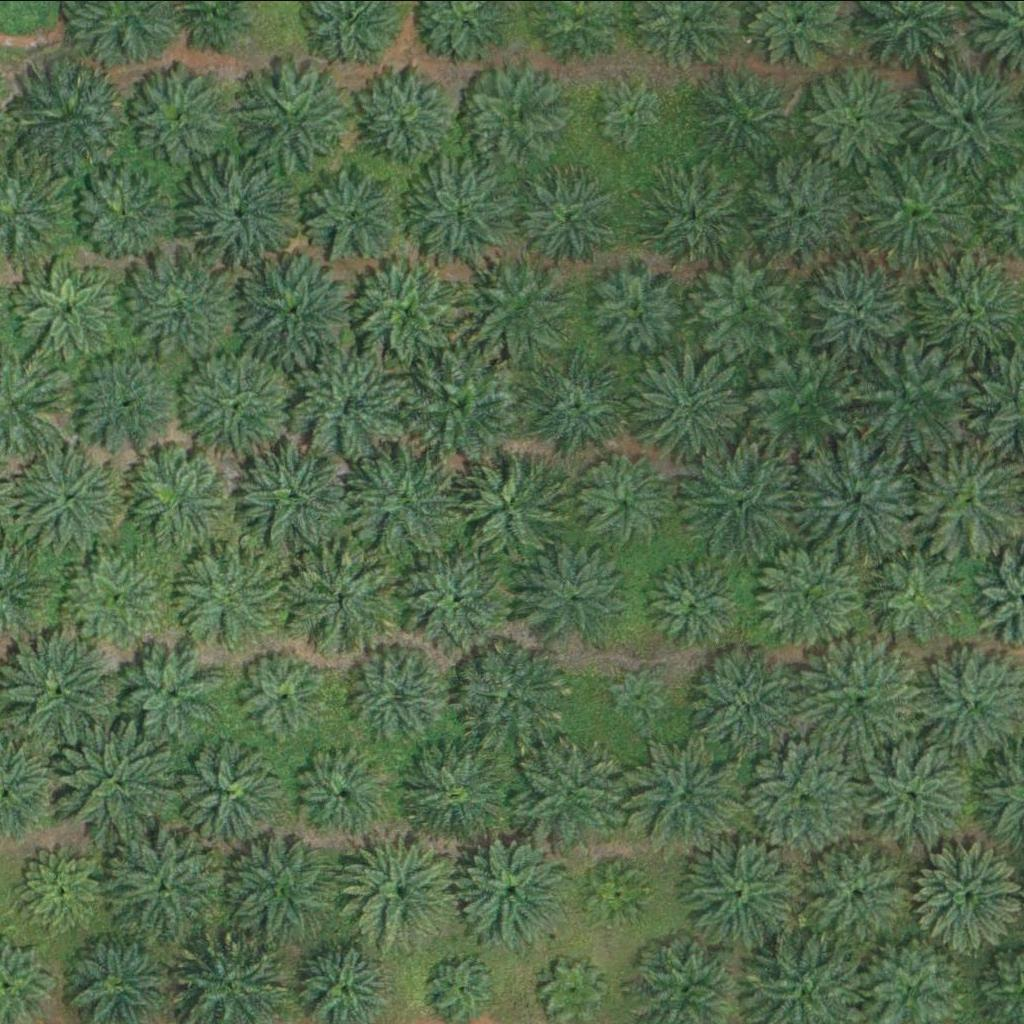Kelapa_Sawit: (743, 350, 857, 463), (679, 444, 793, 557), (523, 538, 637, 651), (853, 343, 967, 456), (348, 834, 461, 947), (4, 633, 117, 746), (176, 537, 289, 650), (285, 545, 398, 658), (69, 348, 182, 461), (123, 245, 236, 358), (233, 253, 346, 366), (408, 152, 521, 265), (354, 251, 467, 364), (353, 440, 466, 553), (452, 449, 565, 562), (801, 444, 914, 557), (404, 540, 517, 653), (625, 741, 738, 854), (748, 737, 861, 850), (459, 832, 572, 945), (685, 835, 798, 948), (860, 742, 973, 855), (852, 154, 965, 267), (109, 827, 223, 939), (221, 830, 335, 942), (289, 733, 403, 845), (8, 59, 122, 171), (123, 62, 237, 174), (804, 256, 918, 368), (458, 639, 572, 751), (401, 736, 515, 848), (59, 726, 172, 838), (172, 732, 285, 844), (16, 443, 129, 555), (240, 438, 353, 550), (183, 350, 296, 462), (295, 349, 408, 461), (176, 158, 289, 270), (241, 60, 354, 172), (749, 157, 862, 269), (465, 250, 578, 362), (405, 347, 518, 459), (517, 351, 630, 463), (629, 349, 742, 461), (756, 538, 869, 650), (690, 644, 803, 756), (803, 642, 916, 754), (514, 733, 627, 845), (804, 836, 917, 948), (121, 645, 222, 745), (67, 549, 168, 649), (127, 449, 228, 549), (14, 259, 115, 359), (305, 164, 406, 264), (353, 67, 454, 167), (465, 66, 566, 166), (691, 64, 792, 164), (807, 66, 908, 166), (514, 166, 615, 266), (647, 169, 748, 269), (591, 256, 692, 356), (694, 256, 795, 356), (861, 545, 962, 645), (350, 642, 450, 742), (71, 163, 171, 263), (573, 452, 673, 552), (642, 554, 742, 654), (18, 845, 106, 933), (240, 649, 328, 736), (597, 78, 672, 153), (586, 861, 649, 924), (432, 953, 495, 1016), (543, 958, 606, 1021), (606, 665, 669, 727)
